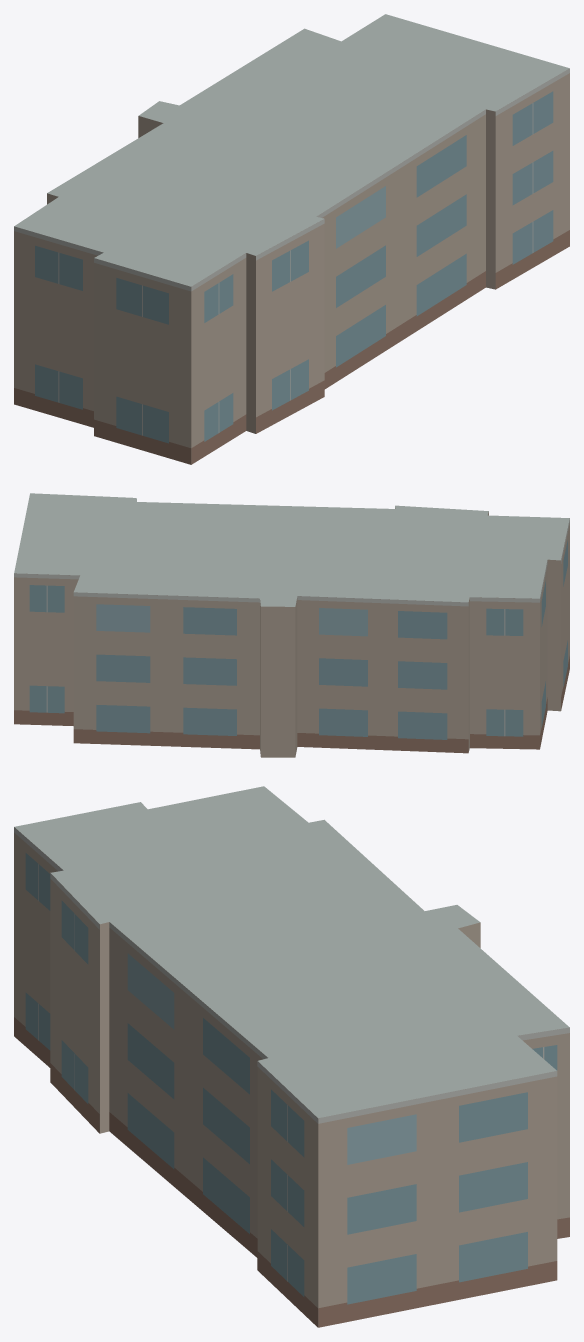
Rendered from survey-upis-33032486.glb.
The picture shows the model from 3 angles, top to bottom: view 1: azimuth 30°, elevation 25°; view 2: azimuth 150°, elevation 25°; view 3: azimuth 270°, elevation 25°; orthographic projection. The views are drawn at different scales.
Parts seen in each view (by area): view 1: survey-upis-33032486.tmp; view 2: survey-upis-33032486.tmp; view 3: survey-upis-33032486.tmp.
Part boxes in pixels (x1=…): survey-upis-33032486.tmp: x1=14, y1=14, x2=569, y2=464; survey-upis-33032486.tmp: x1=14, y1=493, x2=569, y2=757; survey-upis-33032486.tmp: x1=14, y1=786, x2=569, y2=1327.
Size of the model in its own units: 31.13 by 9.15 by 22.01.
